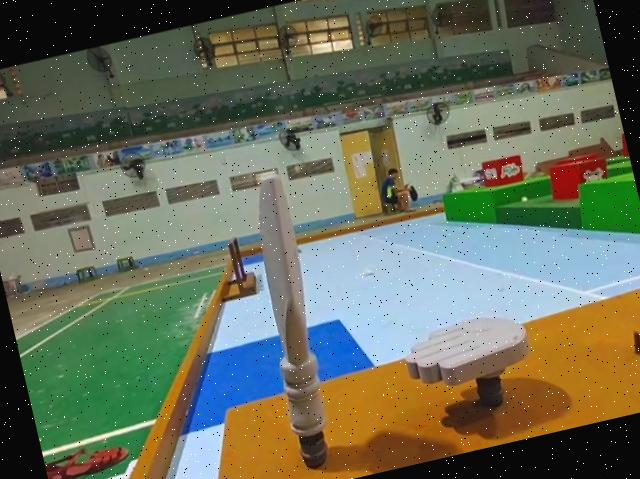Hand: (396, 305, 543, 428)
Sph: (227, 167, 358, 478)
